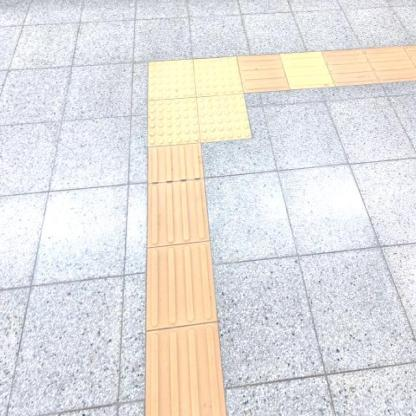podotacti: (112, 24, 308, 209), (146, 149, 226, 414), (244, 44, 415, 92)
